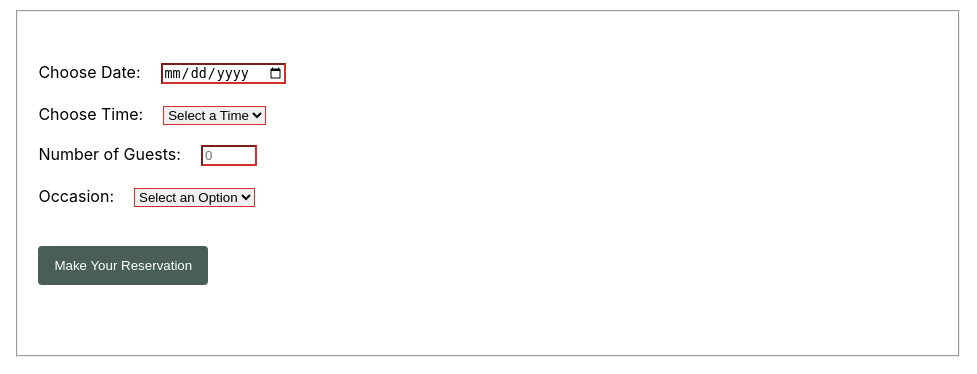
Test: BookingForm › disables submit button when form is submitting
# Fill in the form
Type "2024-12-31" into the date field labelled "Choose Date:".
click(223, 73); type("2024-12-31")  # box x1=160 y1=63 x2=286 y2=84
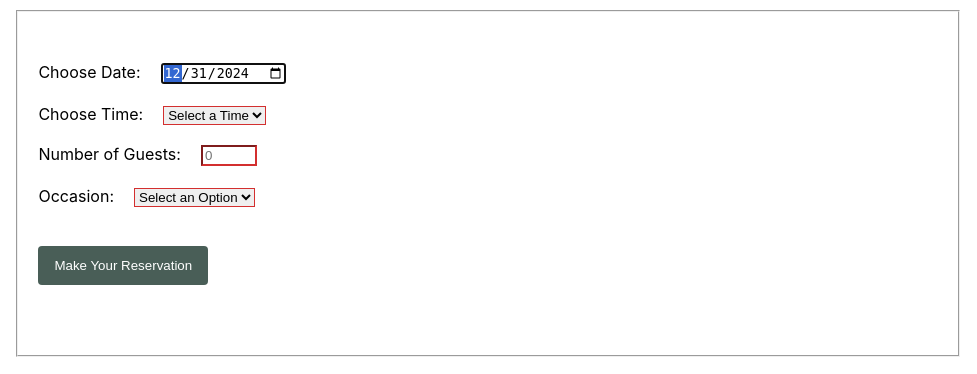
Select "19:00" in the dropdown labelled "Choose Time:" at (215, 116), box x1=163 y1=106 x2=266 y2=125
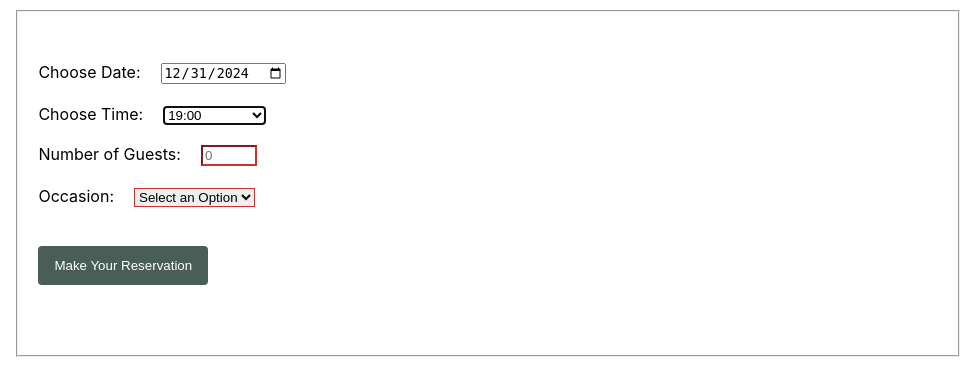
Type "4" into the number field labelled "Number of Guests:".
click(229, 156); type("4")  # box x1=201 y1=145 x2=257 y2=166
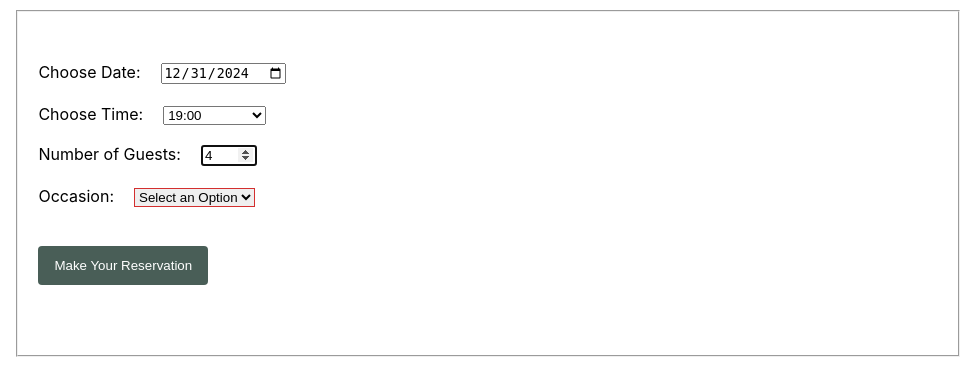
Select "Birthday" in the dropdown labelled "Occasion:" at (194, 198), box x1=134 y1=188 x2=255 y2=207
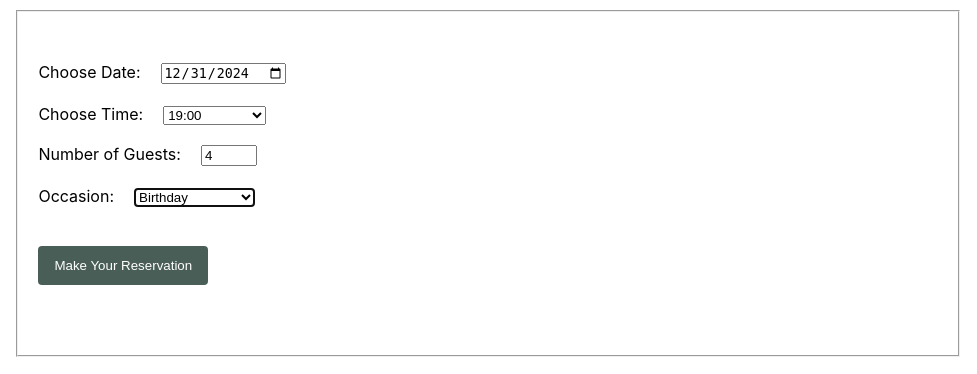
# Submit the form
Click the button showing "make your reservation".
click(123, 266)  # box x1=38 y1=246 x2=208 y2=285
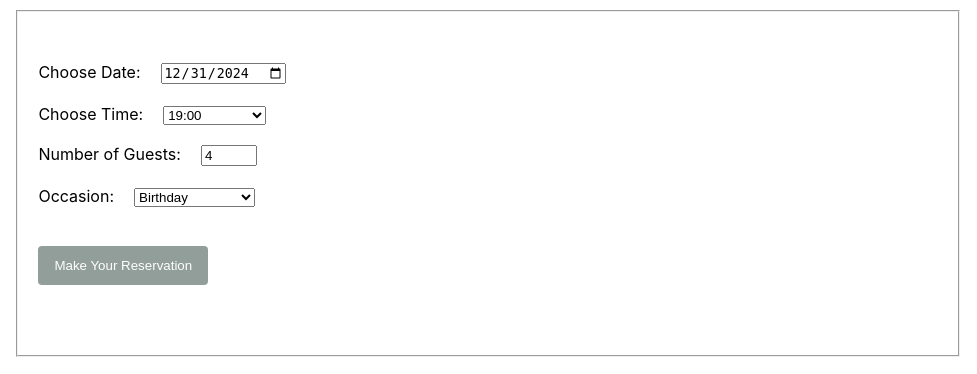
Expected: the button showing "make your reservation" is disabled, x1=38 y1=246 x2=208 y2=285
